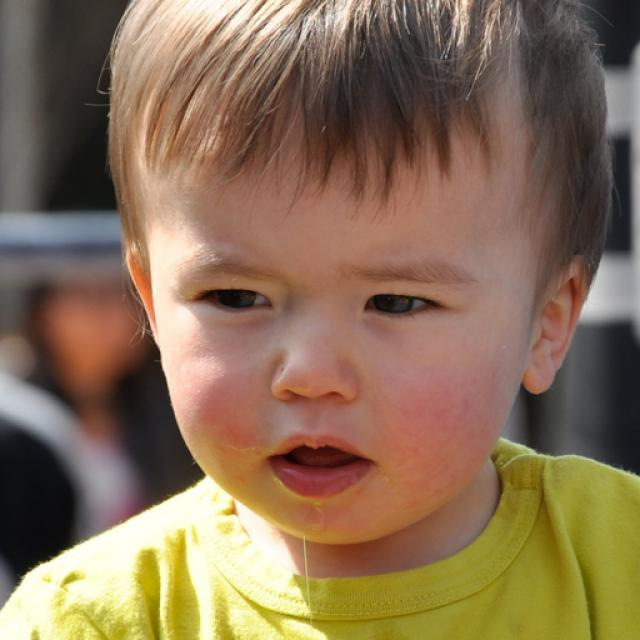sad: (155, 109, 529, 544)
